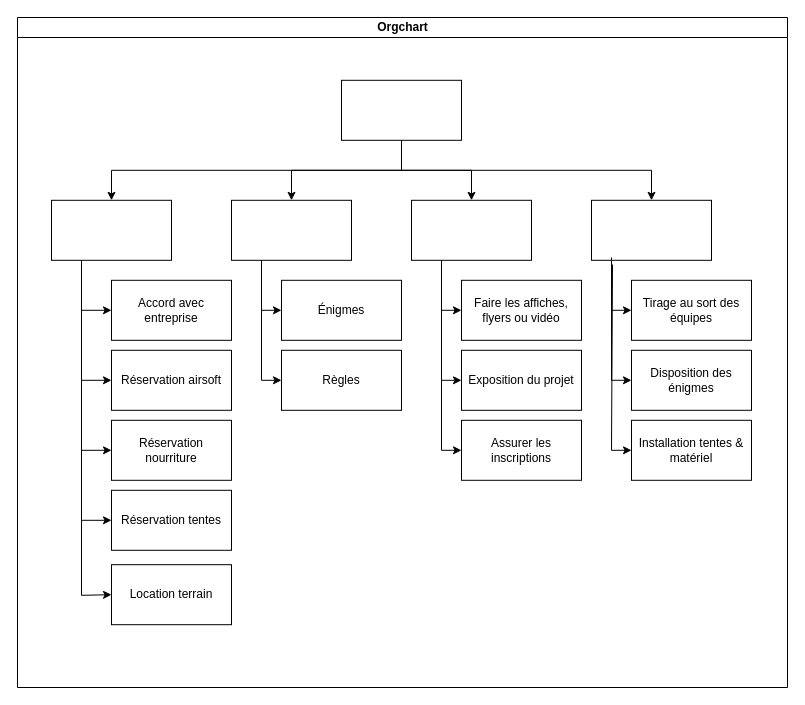
Image size: 805x705. Some labels were removed from this diagram. The shapes that lost their labels are listed below. From the top down, each one's box as (x1, y1, x2, y2) in pixels, then its label:
(340, 79, 462, 140): Événement : R&E
(50, 199, 172, 260): Initialisation du projet
(230, 199, 352, 260): Conception de l'événement
(410, 199, 532, 260): Communication
(590, 199, 712, 260): Organisation du terrain et du matériel
